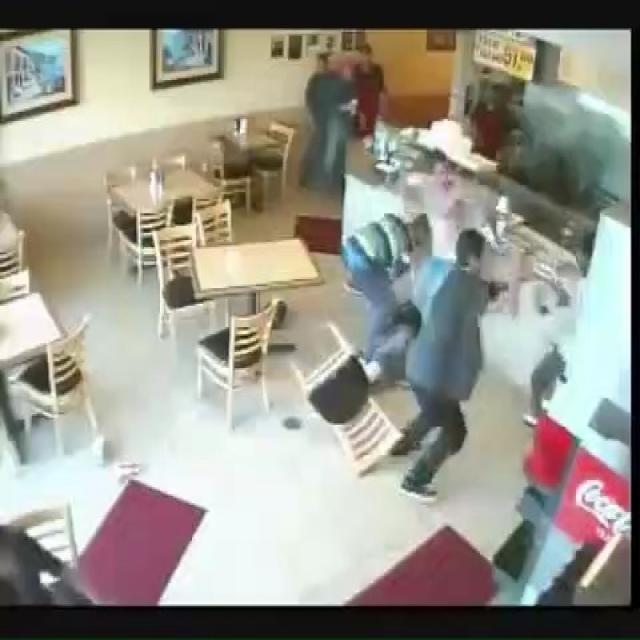fight: (314, 153, 546, 477)
